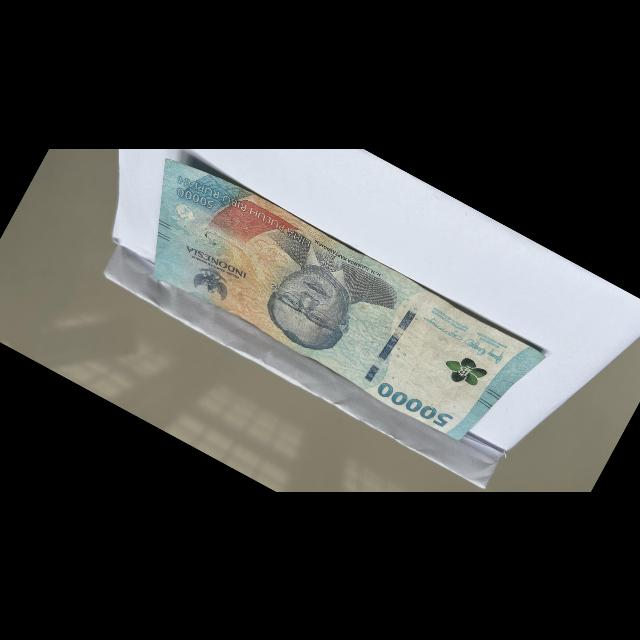Palsu-50k: (106, 148, 553, 465)
Tinta-Palsu-50k: (438, 346, 490, 395)
